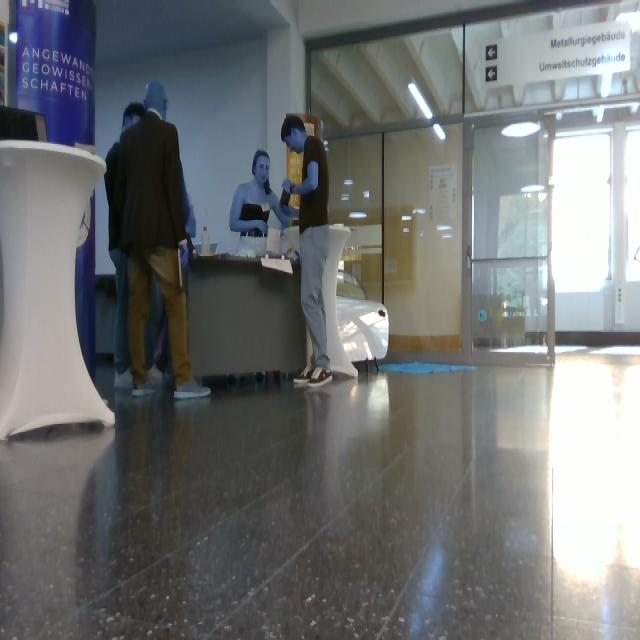door: (310, 1, 640, 365)
light bulb: (410, 82, 432, 120), (434, 124, 445, 141), (9, 32, 17, 44)
person: (121, 82, 210, 400), (281, 114, 332, 386), (106, 104, 146, 388), (231, 150, 297, 256), (147, 281, 165, 392)
pillar: (184, 256, 306, 376), (98, 276, 117, 360), (1, 1, 9, 105)
table: (1, 141, 115, 440), (323, 226, 357, 377)
tiled floor: (1, 353, 640, 640)
